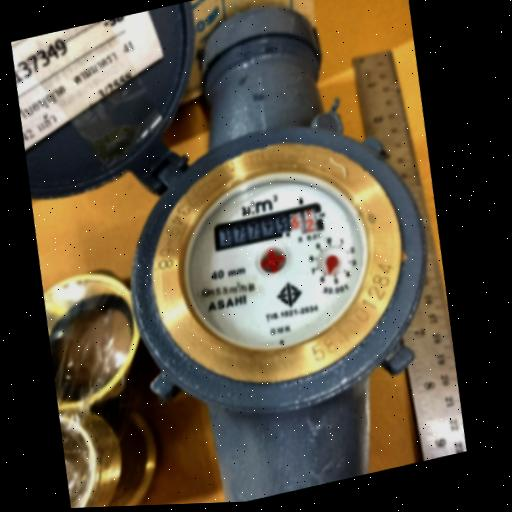2: (303, 208, 318, 233)
3: (217, 226, 233, 247)
5: (275, 213, 289, 234)
6: (288, 211, 304, 230)
7: (245, 220, 261, 240), (233, 223, 248, 243)
9: (260, 217, 276, 237)
border_water_meter_number: (212, 201, 327, 254)
